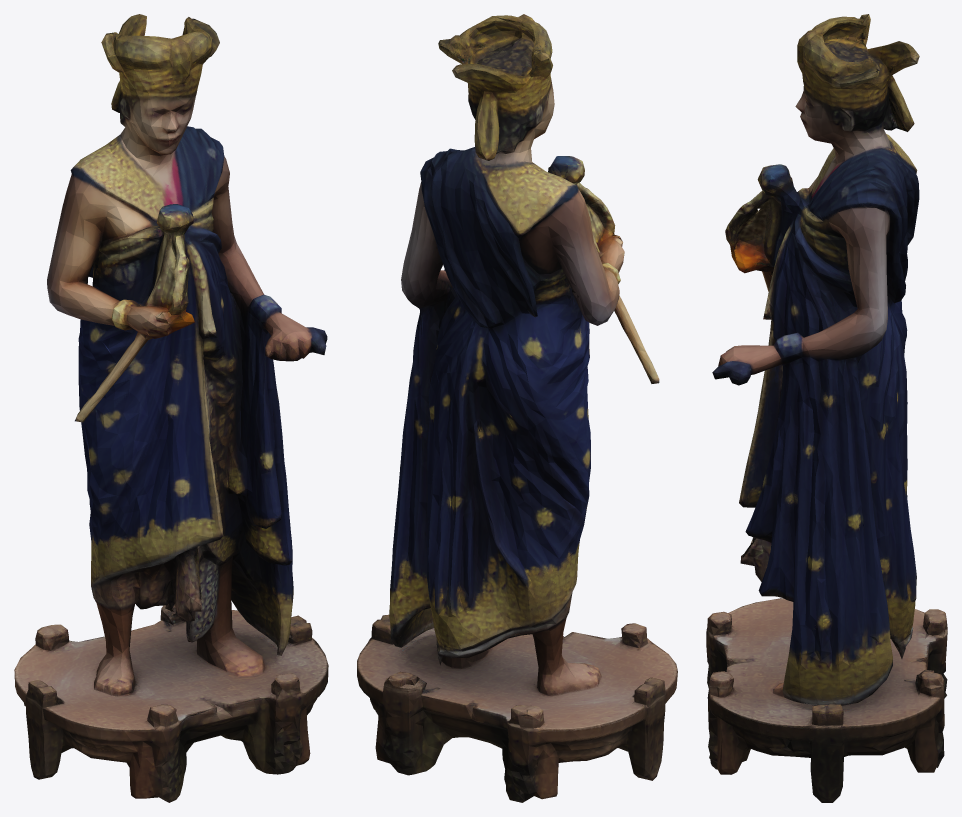
Rendered from gusti-ngurah-made-agung.glb.
3 renders of one model, left to right at view 1: azimuth 30°, elevation 25°; view 2: azimuth 150°, elevation 25°; view 3: azimuth 270°, elevation 25°, orthographic. The views are drawn at different scales.
Parts seen in each view (by area): view 1: world; view 2: world; view 3: world.
Part boxes in pixels (x1=…): world: x1=14, y1=14, x2=328, y2=802; world: x1=357, y1=14, x2=677, y2=802; world: x1=706, y1=14, x2=947, y2=802.
Size of the model in its own units: 0.2826 by 0.6993 by 0.2162.
1 material, 1 textured.
